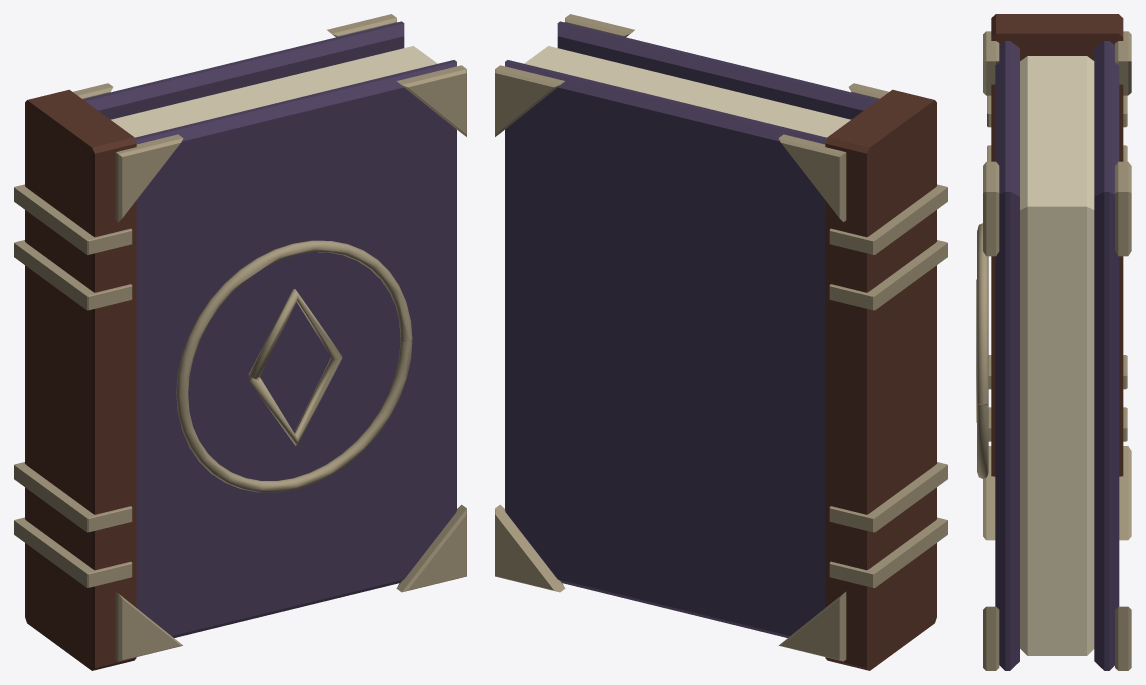
The model's file is spell-tome-standard-high.glb.
3 views of the same model, side by side, from view 1: azimuth 30°, elevation 25°; view 2: azimuth 150°, elevation 25°; view 3: azimuth 270°, elevation 25° (orthographic). The views are drawn at different scales.
Visible parts, largest first — view 1: spell-tome__standard; view 2: spell-tome__standard; view 3: spell-tome__standard.
Boxes of the visible parts, <box> form: spell-tome__standard: <box>14,14,466,670</box>; spell-tome__standard: <box>495,14,947,670</box>; spell-tome__standard: <box>976,14,1131,670</box>.
Bounding box in the file's own units: 0.25 × 0.33 × 0.094.
